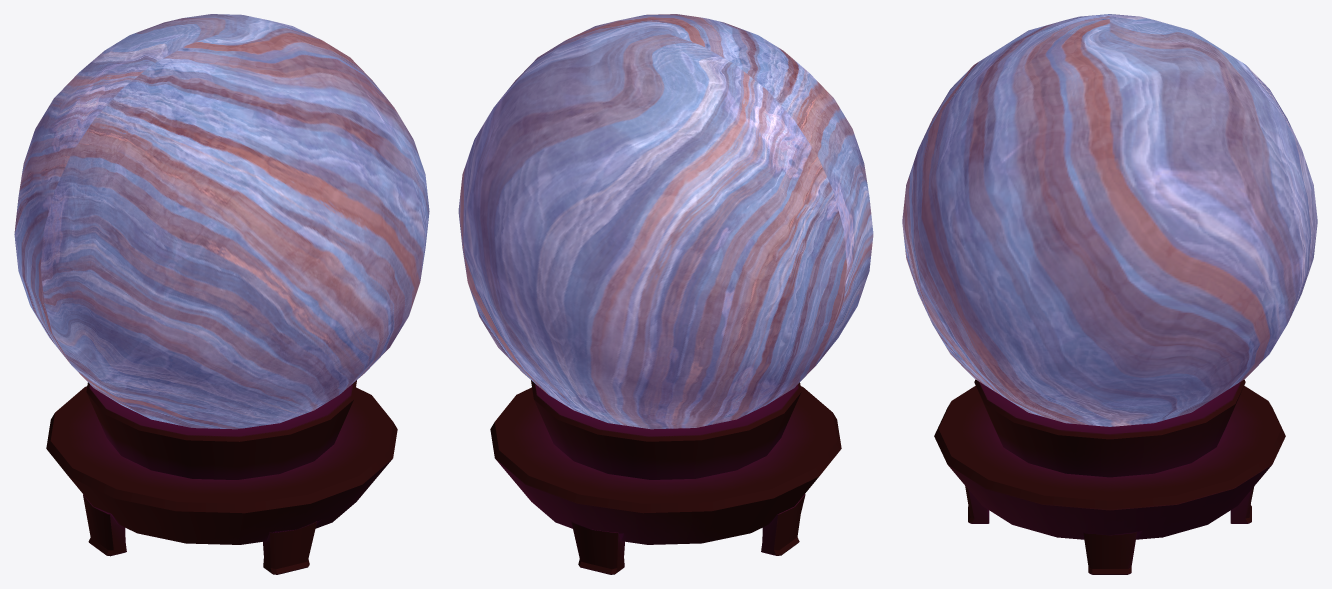
File: crystalBall.glb
3 renders of one model, left to right at view 1: azimuth 30°, elevation 25°; view 2: azimuth 150°, elevation 25°; view 3: azimuth 270°, elevation 25°, orthographic.
Visible parts, largest first — view 1: crystalBall; view 2: crystalBall; view 3: crystalBall.
Part boxes in pixels (x1,y1,x2,y2): crystalBall: (14,14,429,574); crystalBall: (458,14,873,574); crystalBall: (902,14,1317,574).
Size of the model in its own units: 0.2434 by 0.3117 by 0.2434.
1 material, 1 textured.
